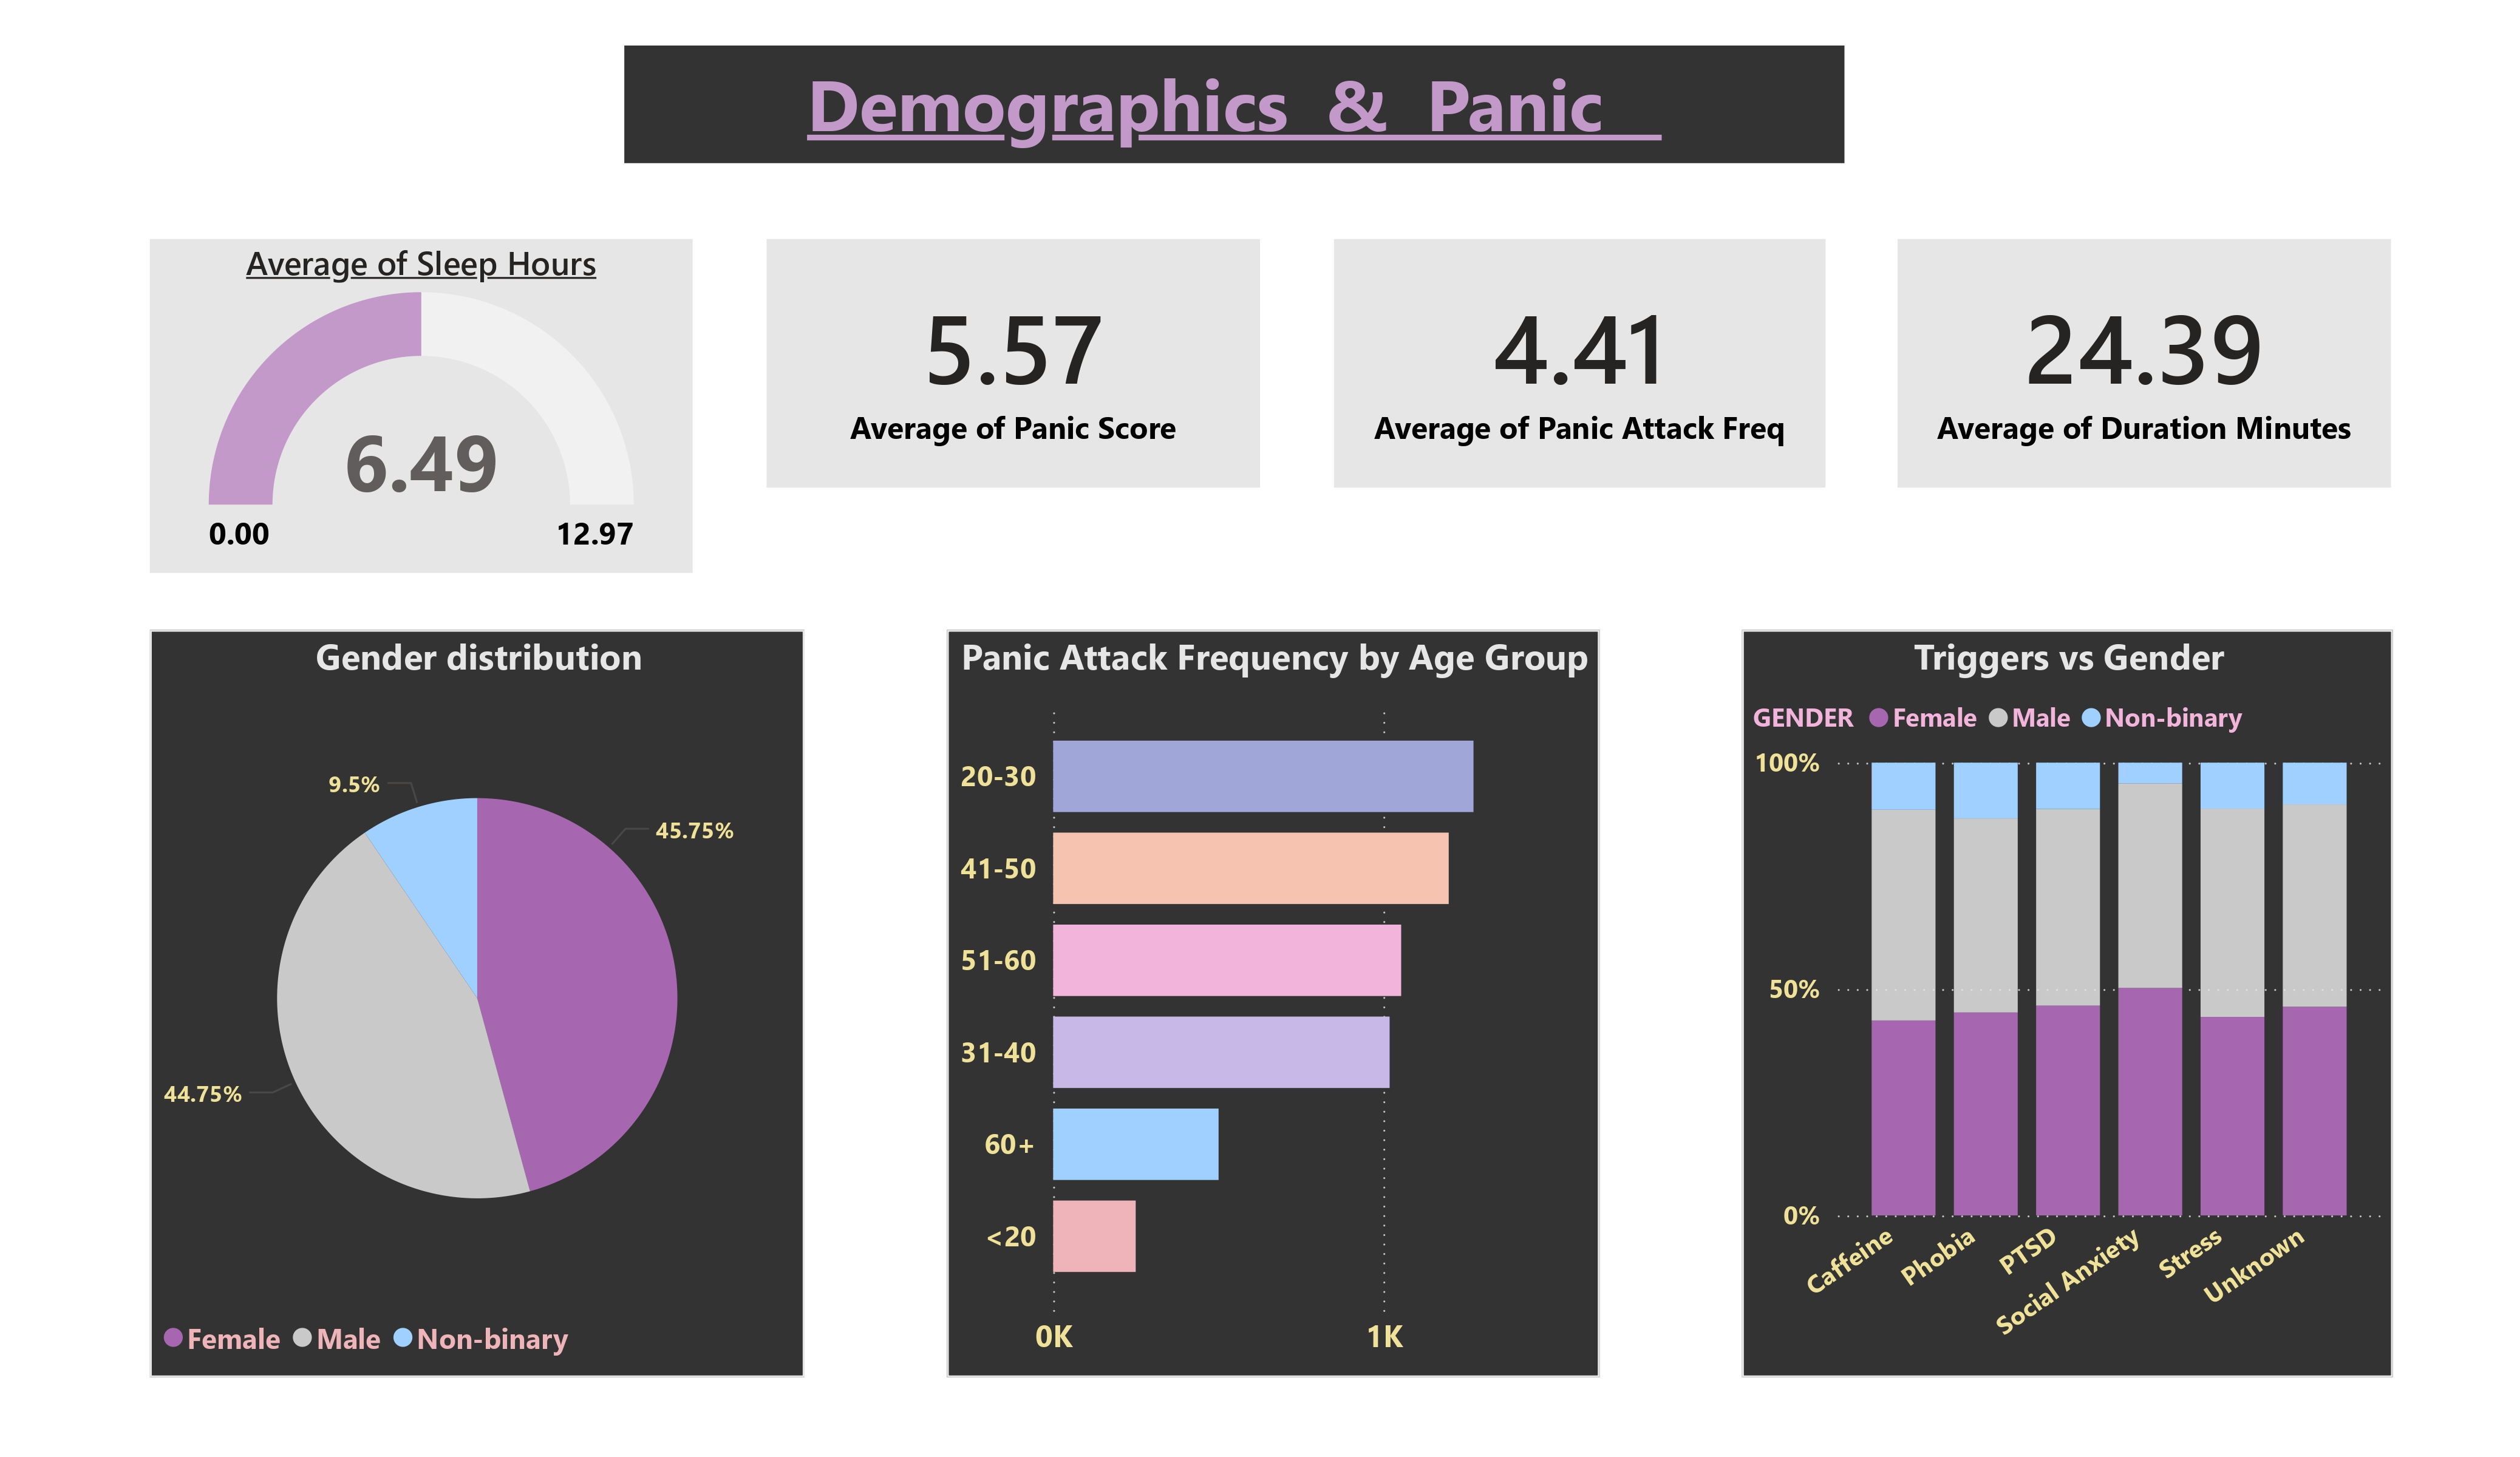

The page's visual inventory and layout, read from the dashboard file:
{"tool":"powerbi","page":{"name":"Demographics  &  Panic   Trends","canvas":[1280,720],"ordinal":0},"visuals":[{"type":"card","fields":{"Values":["Avg(PANIC_ATTACK_DATA.PANIC_SCORE)"]},"box":[380.3,102,259.7,131.4],"z":1000},{"type":"textbox","box":[304.5,0,643.1,61.8],"z":2000},{"type":"card","fields":{"Values":["Avg(PANIC_ATTACK_DATA.PANIC_ATTACK_FREQUENCY)"]},"box":[678.7,101.9,259,131.4],"z":3000},{"type":"card","fields":{"Values":["Avg(PANIC_ATTACK_DATA.DURATION_MINUTES)"]},"box":[976.3,101.9,259.7,131.4],"z":4000},{"type":"gauge","fields":{"Y":["Avg(PANIC_ATTACK_DATA.SLEEP_HOURS)"]},"box":[55,101.9,286,176.2],"z":5000},{"type":"pieChart","title":"Gender distribution","fields":{"Category":["PANIC_ATTACK_DATA.GENDER"],"Y":["CountNonNull(PANIC_ATTACK_DATA.ID)"]},"box":[55,307.6,344.7,394.2],"z":6000},{"type":"barChart","title":"Panic Attack Frequency by Age Group","fields":{"Y":["Sum(PANIC_ATTACK_DATA.PANIC_ATTACK_FREQUENCY)"],"Category":["PANIC_ATTACK_DATA.Age_Group"]},"box":[474.6,307.6,344,394.2],"z":7000},{"type":"hundredPercentStackedColumnChart","title":"Triggers vs Gender","fields":{"Category":["PANIC_ATTACK_DATA.TRIGGER_REASON"],"Series":["PANIC_ATTACK_DATA.GENDER"],"Y":["CountNonNull(PANIC_ATTACK_DATA.ID)"]},"box":[893.5,307.6,343.2,394.2],"z":8000}]}

Visuals, with their boxes in screenshot pixels (x1, y1, x2, y2):
card - Avg(PANIC_ATTACK_DATA.PANIC_SCORE): [767, 239, 1260, 488]
textbox: [624, 46, 1844, 163]
card - Avg(PANIC_ATTACK_DATA.PANIC_ATTACK_FREQUENCY): [1333, 239, 1825, 488]
card - Avg(PANIC_ATTACK_DATA.DURATION_MINUTES): [1898, 239, 2391, 488]
gauge - Avg(PANIC_ATTACK_DATA.SLEEP_HOURS): [150, 239, 693, 573]
"Gender distribution" pieChart: [150, 629, 804, 1377]
"Panic Attack Frequency by Age Group" barChart: [946, 629, 1599, 1377]
"Triggers vs Gender" hundredPercentStackedColumnChart: [1741, 629, 2392, 1377]
